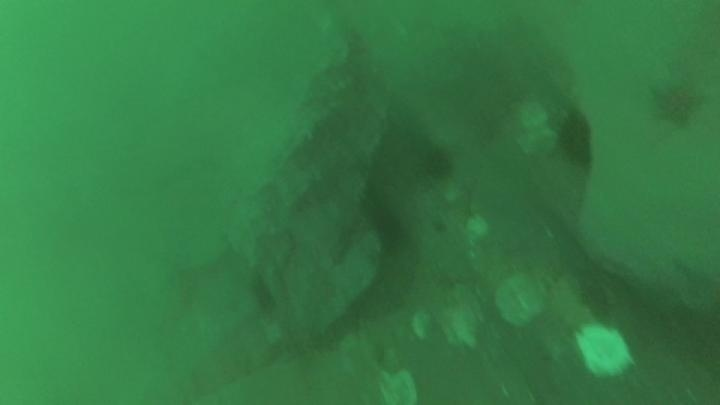echinus: (553, 107, 596, 171), (418, 144, 456, 182)
starfish: (646, 71, 707, 129)
